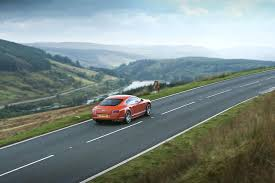car: (91, 93, 154, 124)
